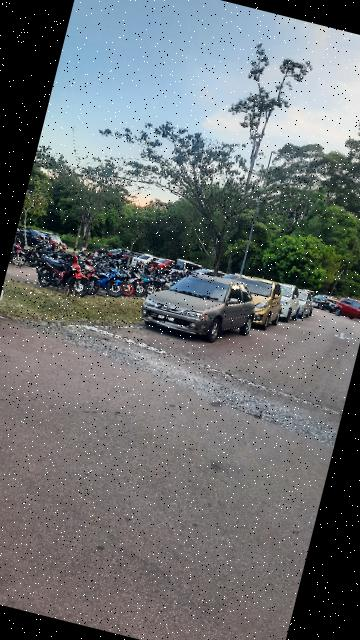License_Plate: (156, 313, 179, 327)
car: (139, 260, 264, 353)
